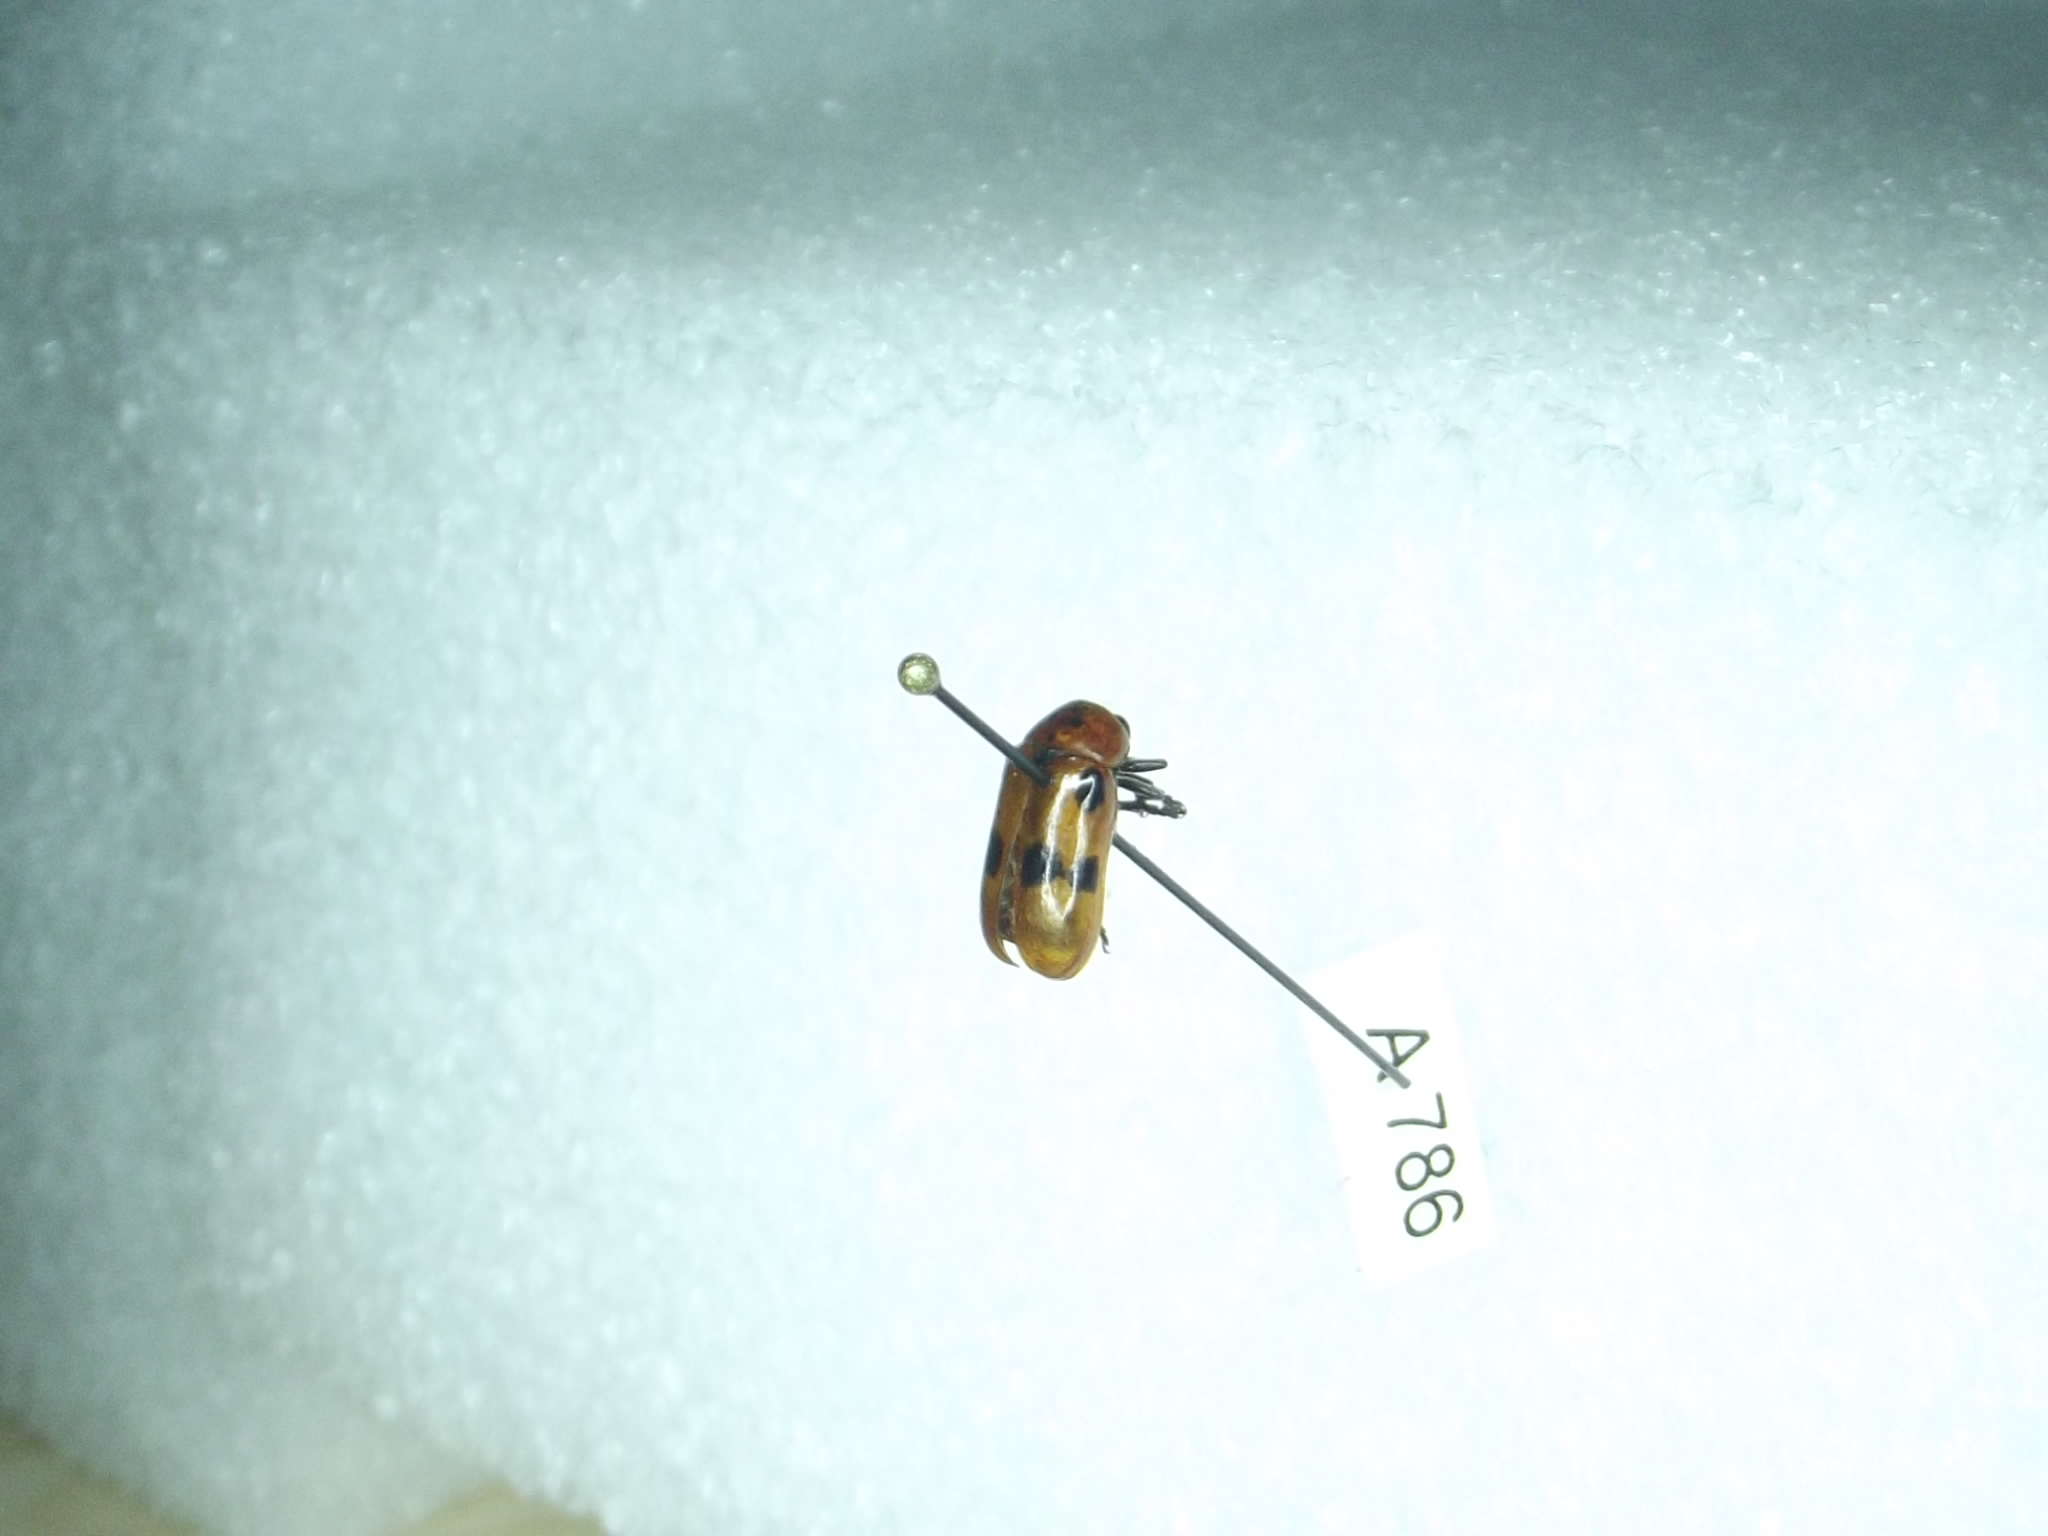Clytra_novempunctata: (958, 682, 1192, 983)
